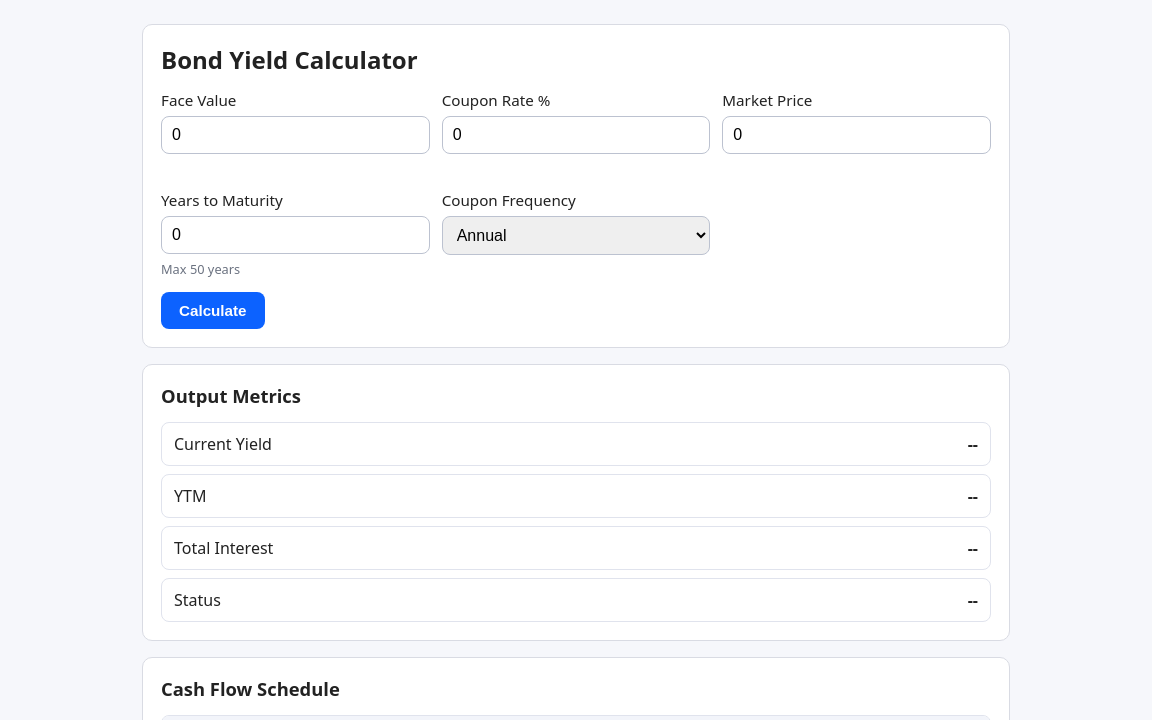
BondYieldCalculator › shows backend error message on failed API response
Replace the text in the field labelled "Face Value" with "1,000" at (295,135), box [161, 116, 430, 154]
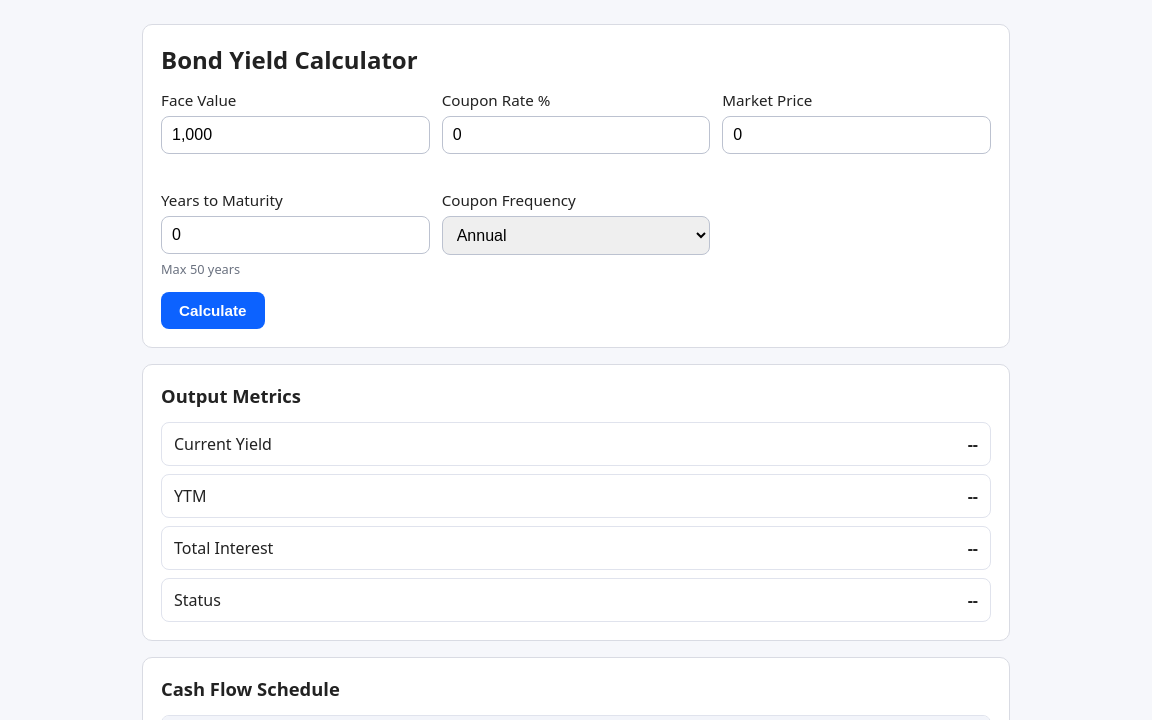
Replace the text in the field labelled "Coupon Rate %" with "8.5" at (576,135), box [442, 116, 710, 154]
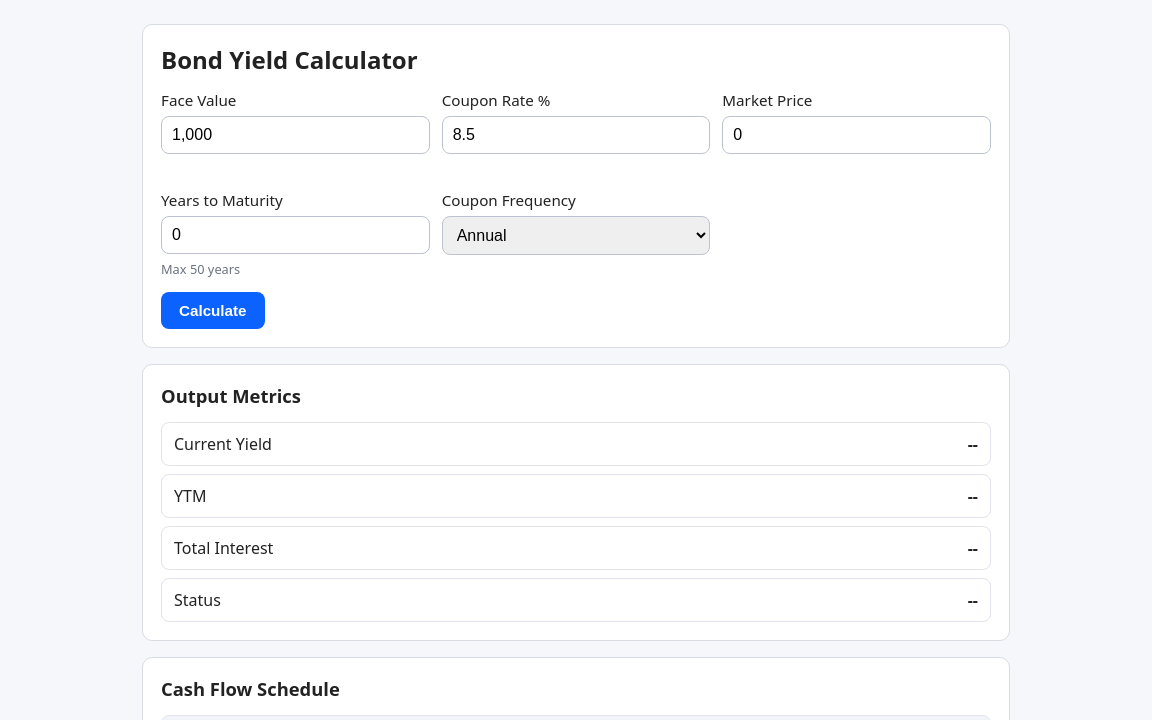
Replace the text in the field labelled "Market Price" with "950" at (857,135), box [722, 116, 991, 154]
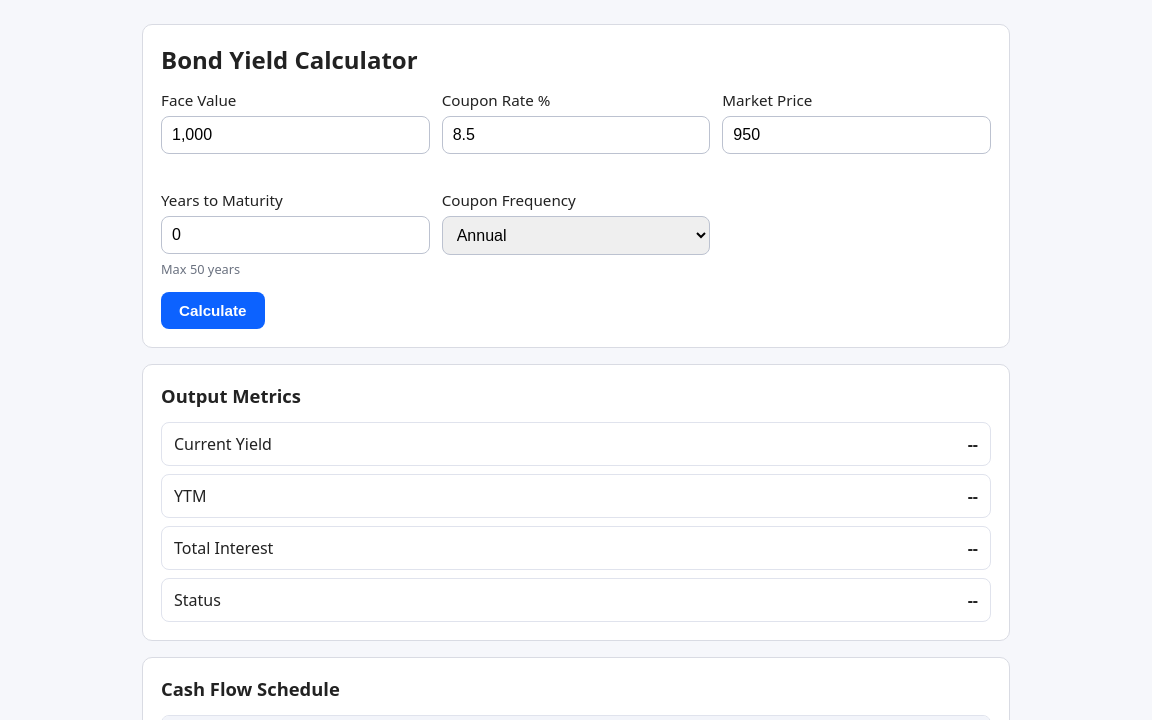
Replace the text in the field labelled "Years to Maturity Max 50 years" with "5" at (295,235), box [161, 216, 430, 254]
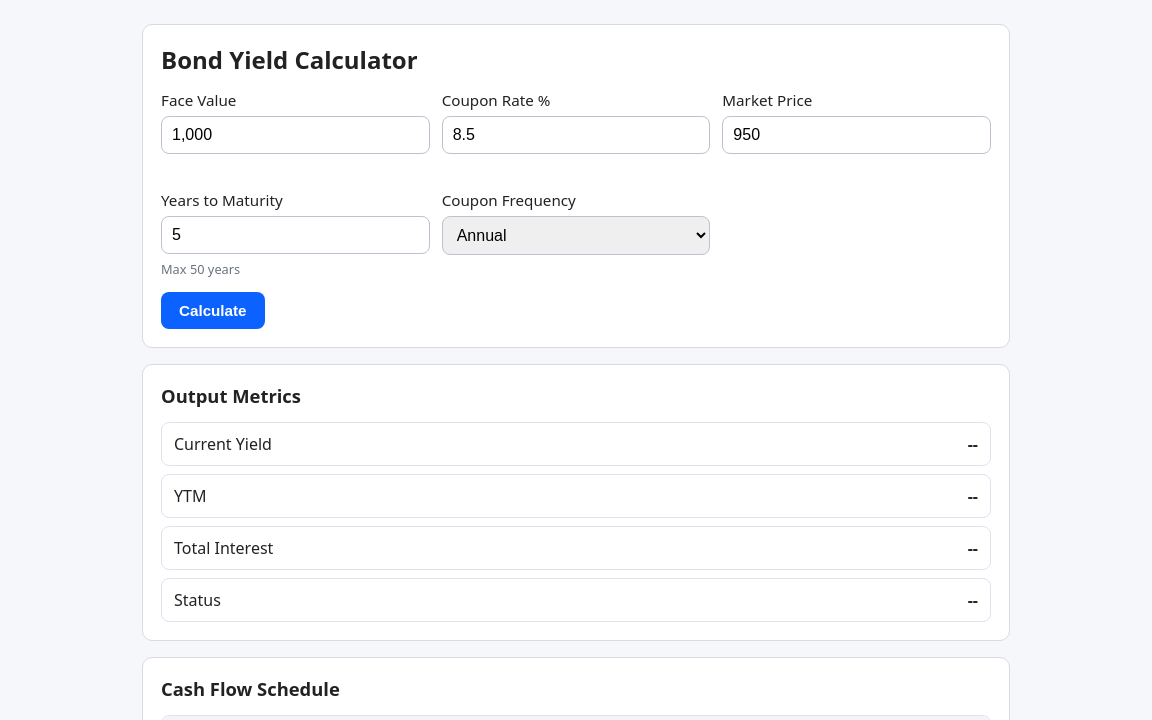
Click the button "Calculate" at (213,310), box [161, 292, 264, 329]
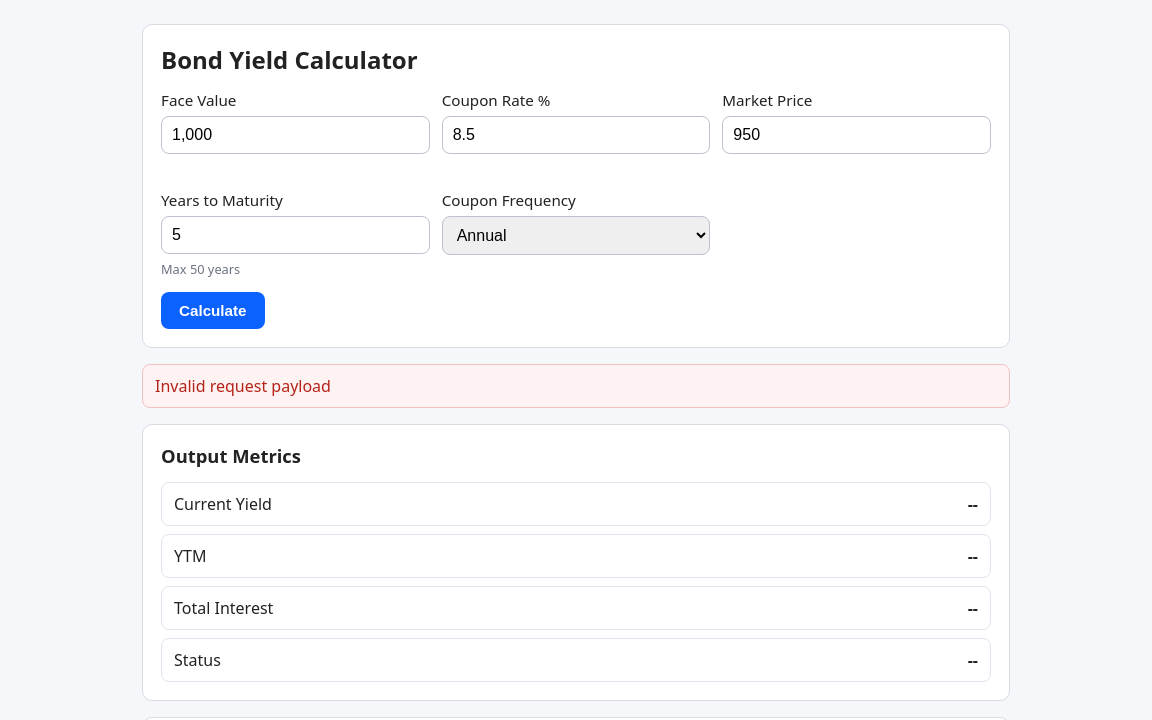
Check: the text "Invalid request payload" is shown, box [142, 364, 1010, 408]
